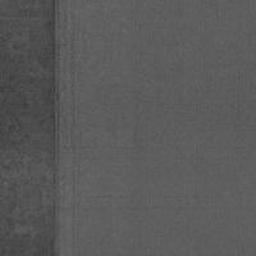Welding line: (50, 0, 61, 256)
